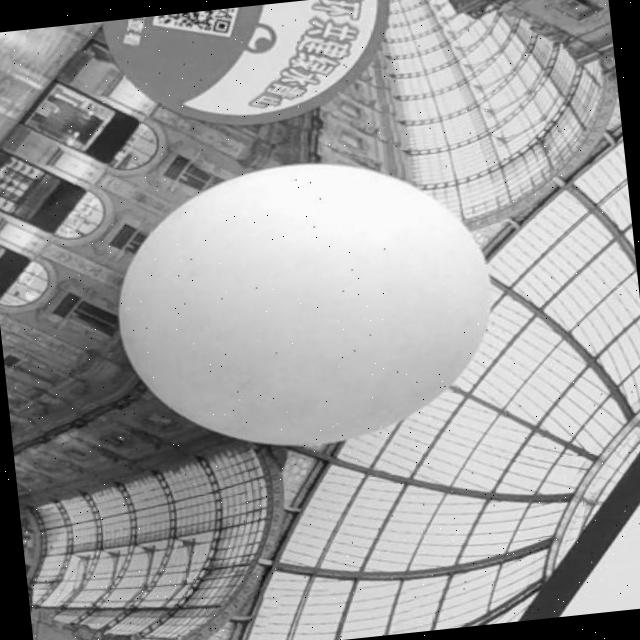ping-pong-ball: (103, 144, 495, 464)
